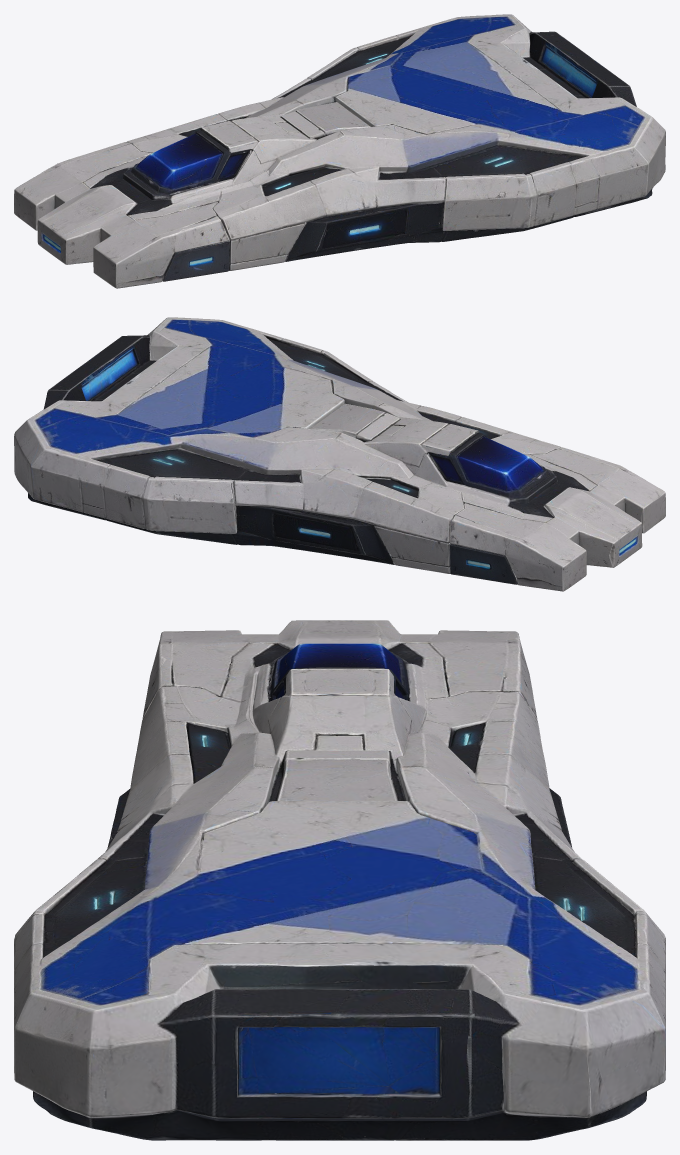
File: zorian.glb
3 views of the same model, one above another, from view 1: azimuth 30°, elevation 25°; view 2: azimuth 150°, elevation 25°; view 3: azimuth 270°, elevation 25° (orthographic). The views are drawn at different scales.
Bounding box in the file's own units: 1.9 × 0.3358 × 1.13.
1 material, 1 textured.
